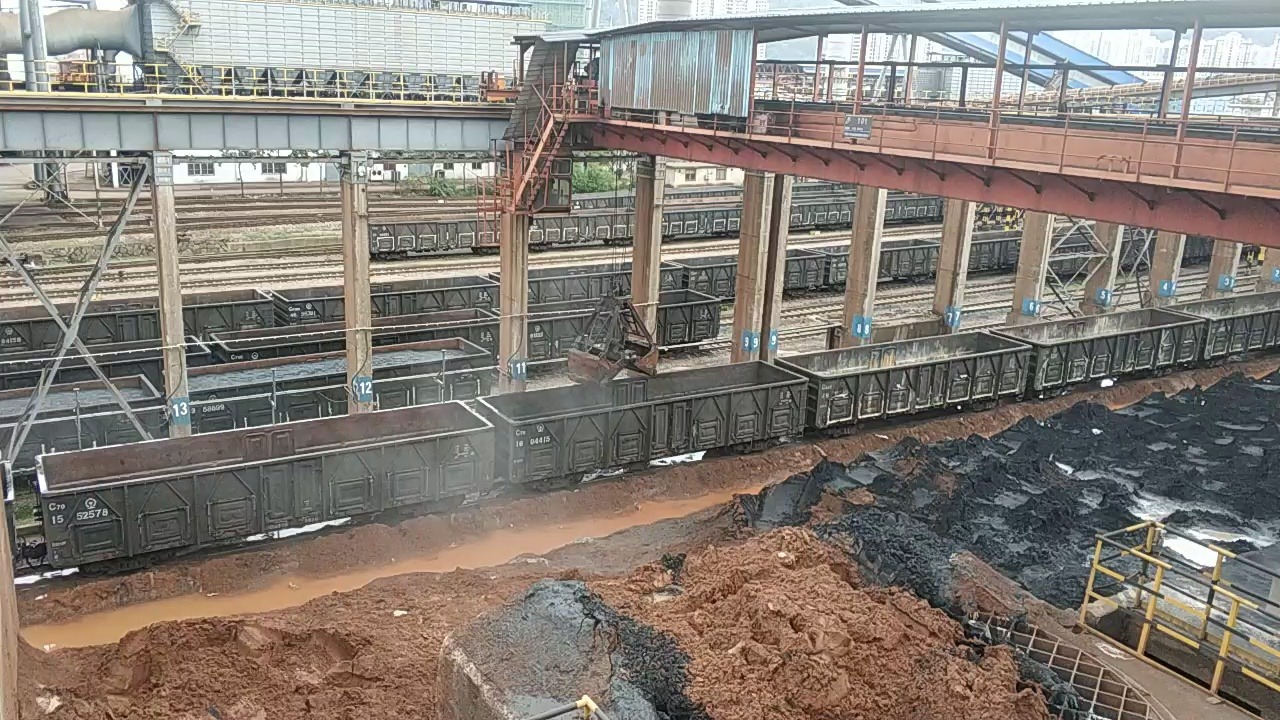dust: (427, 363, 519, 547)
grab: (566, 286, 661, 389)
